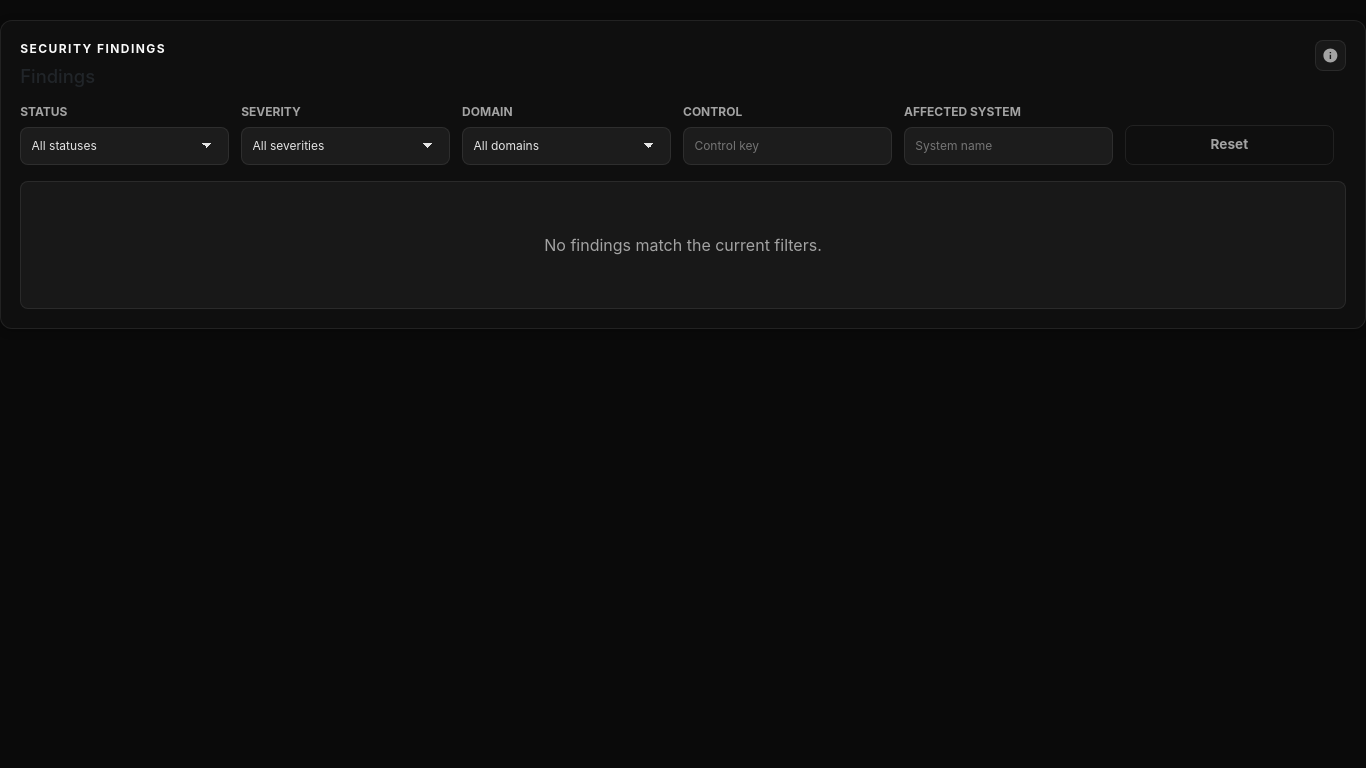
Observatory section-level help wiring › Findings section shows backend-driven help, not hardcoded copy
Click the button named "Explain Security Findings": (1331, 55) [1315,40,1346,71]
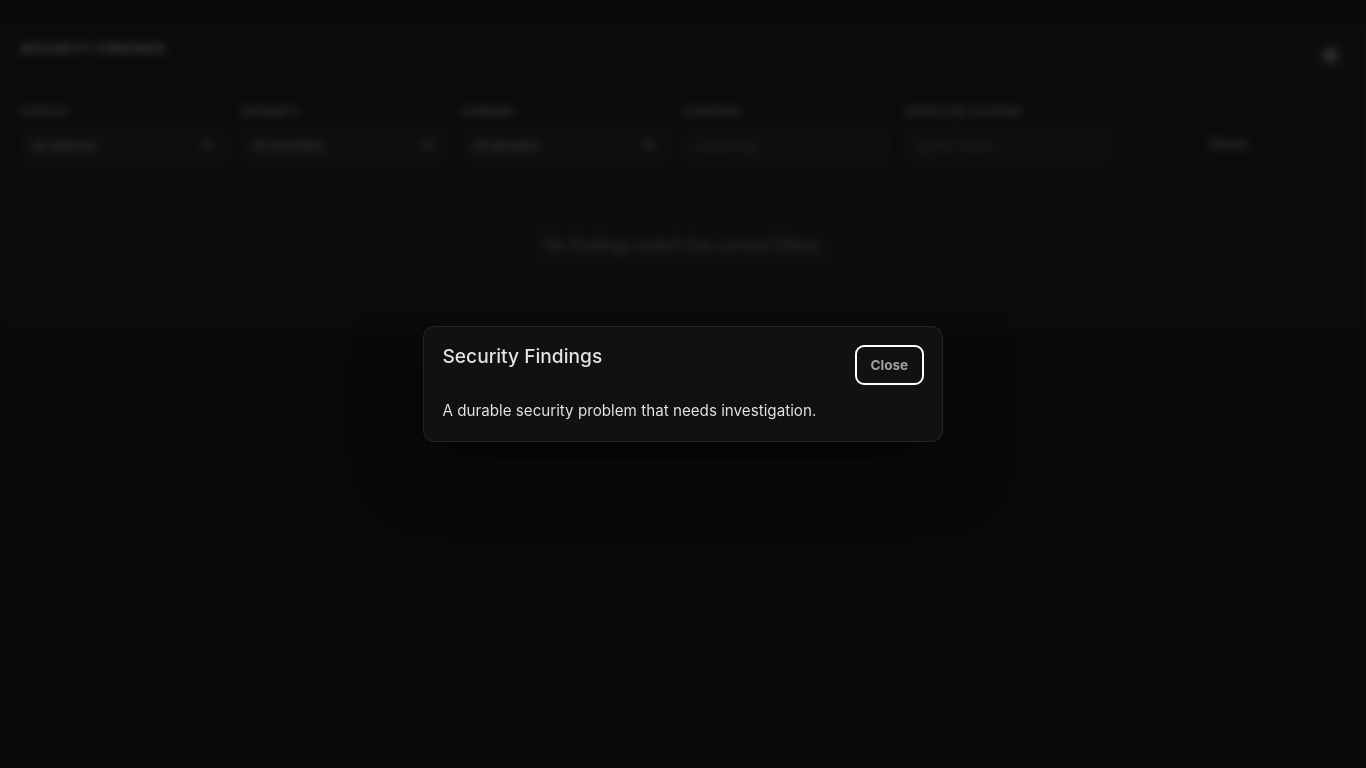
Now the text "A durable security problem that needs investigation." is shown, box [442,401,816,420]
